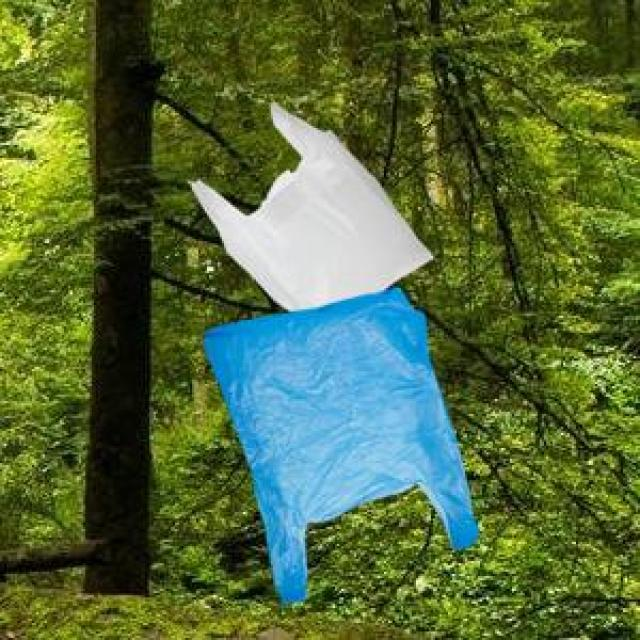plastic: (156, 88, 535, 620)
